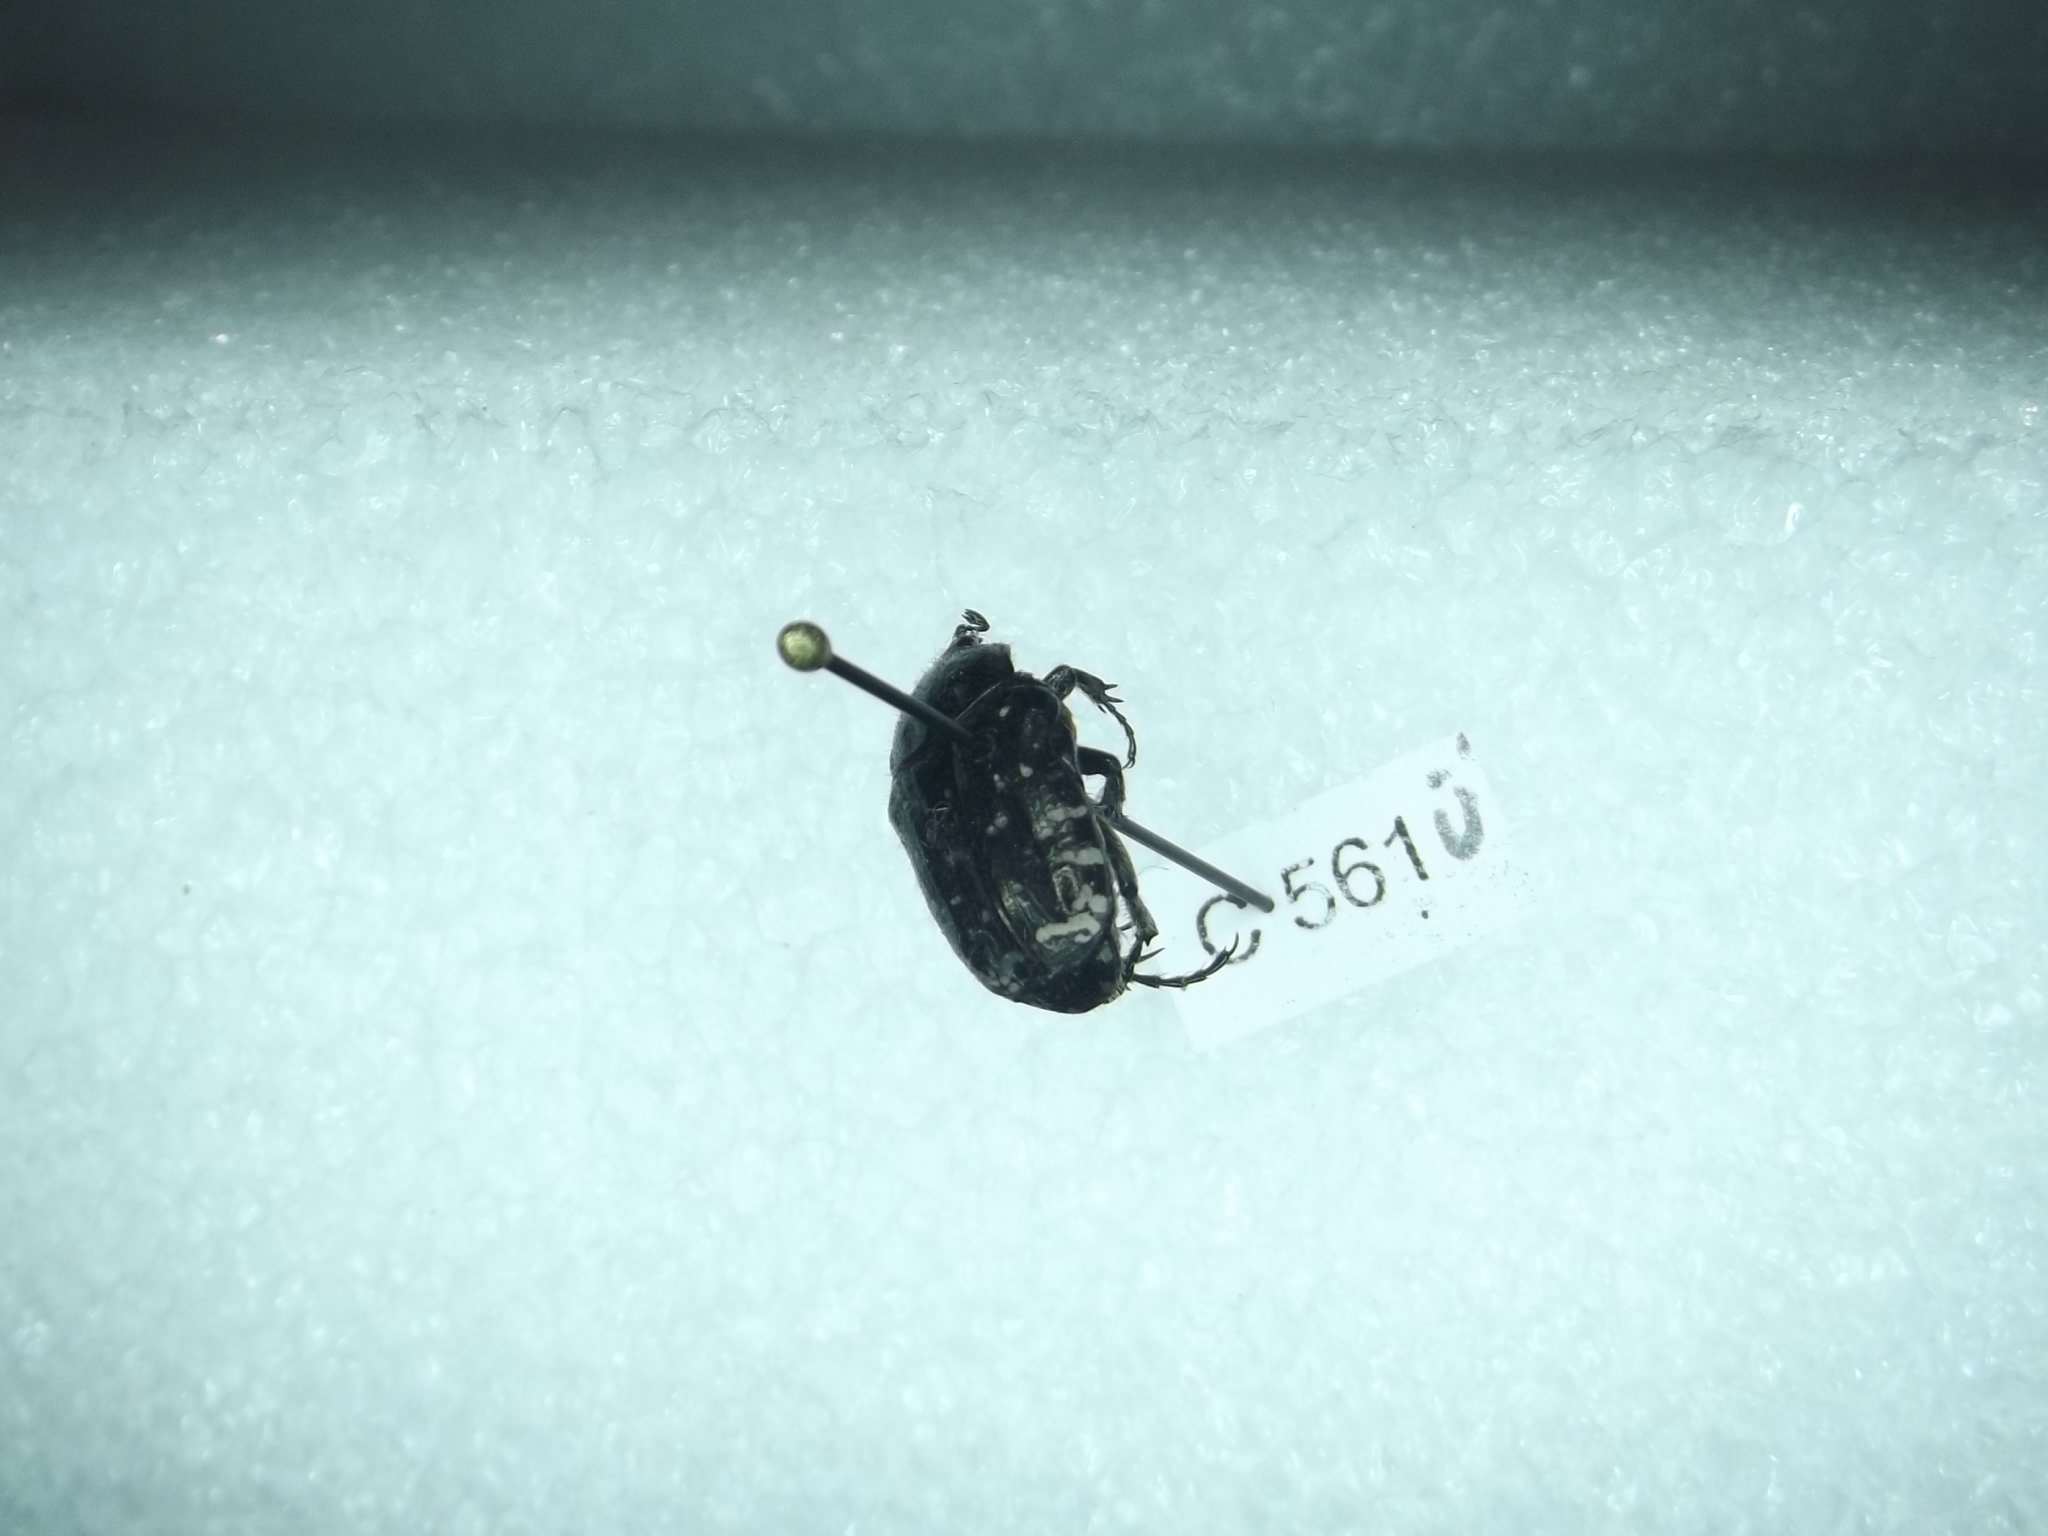Oxythyrea_albopicta: (872, 595, 1243, 1049)
